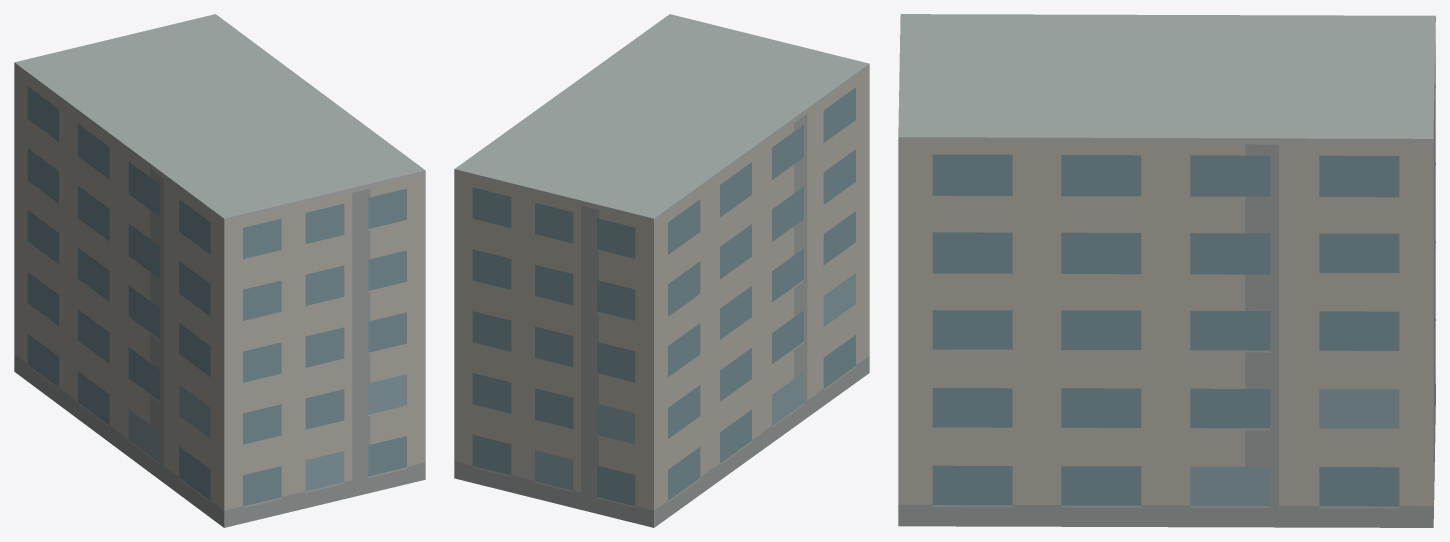
File: survey-upis-32552437.glb
3 views of the same model, side by side, from view 1: azimuth 30°, elevation 25°; view 2: azimuth 150°, elevation 25°; view 3: azimuth 270°, elevation 25° (orthographic). The views are drawn at different scales.
Visible parts, largest first — view 1: survey-upis-32552437.tmp; view 2: survey-upis-32552437.tmp; view 3: survey-upis-32552437.tmp.
Boxes of the visible parts, box(x1,y1,x2,y2) form: survey-upis-32552437.tmp: box(14, 14, 425, 527); survey-upis-32552437.tmp: box(454, 14, 869, 527); survey-upis-32552437.tmp: box(898, 14, 1435, 527).
Size of the model in its own units: 10.57 by 15.35 by 19.23.
